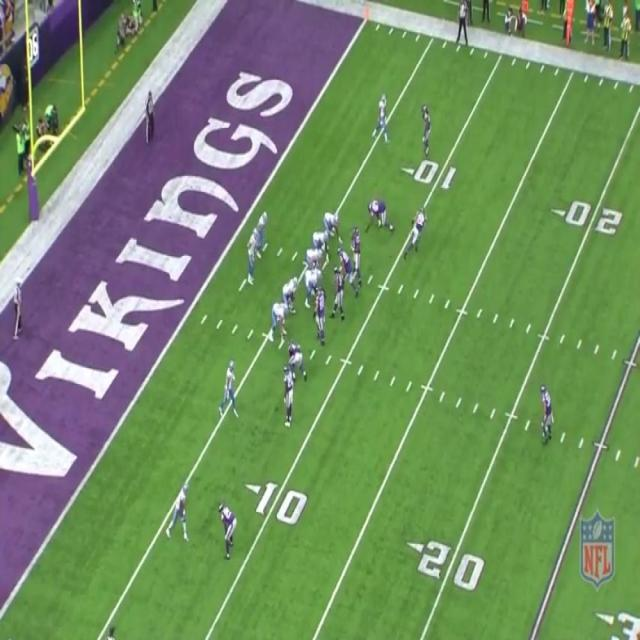center: (305, 264, 320, 290)
db: (214, 499, 236, 553), (280, 366, 296, 424), (540, 389, 558, 439), (416, 106, 431, 150), (412, 205, 426, 247)
lb: (333, 266, 342, 320), (352, 228, 361, 268)
qb: (248, 225, 260, 272)
skill: (169, 477, 191, 537), (220, 359, 238, 409), (374, 90, 390, 144), (324, 205, 338, 228), (260, 205, 269, 228)
